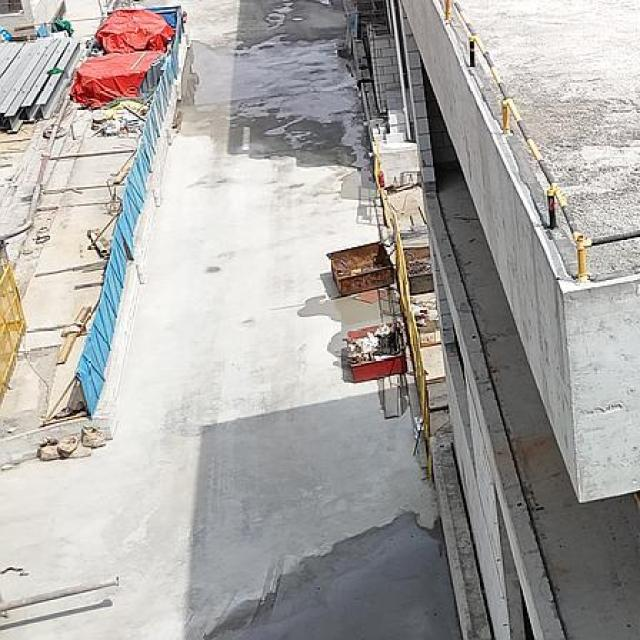Guardrail: (445, 0, 640, 284)
